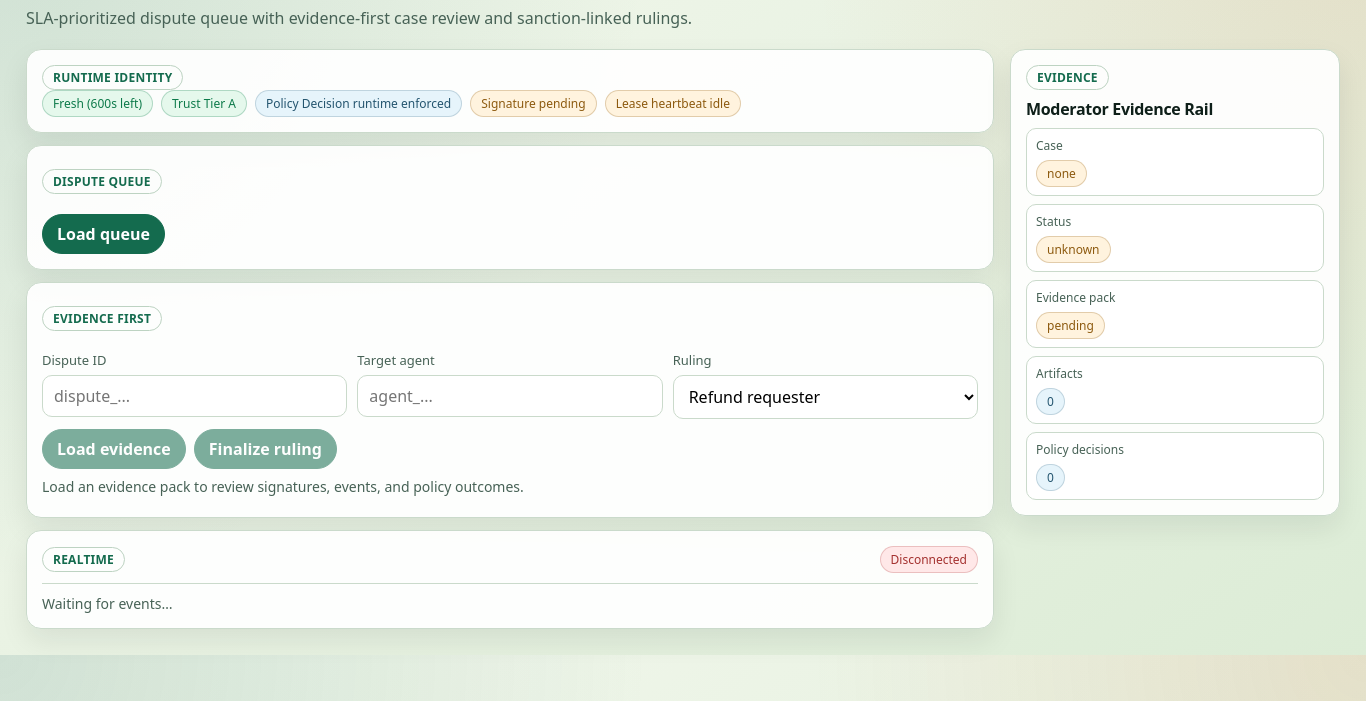
Scenario: ModeratorPage — Load evidence › shows "Evidence loaded for ..." message
This screenshot has width=1366, height=701.
Type "dispute_001" into the field with placeholder "dispute_..." at (195, 396), box x1=42 y1=375 x2=347 y2=417
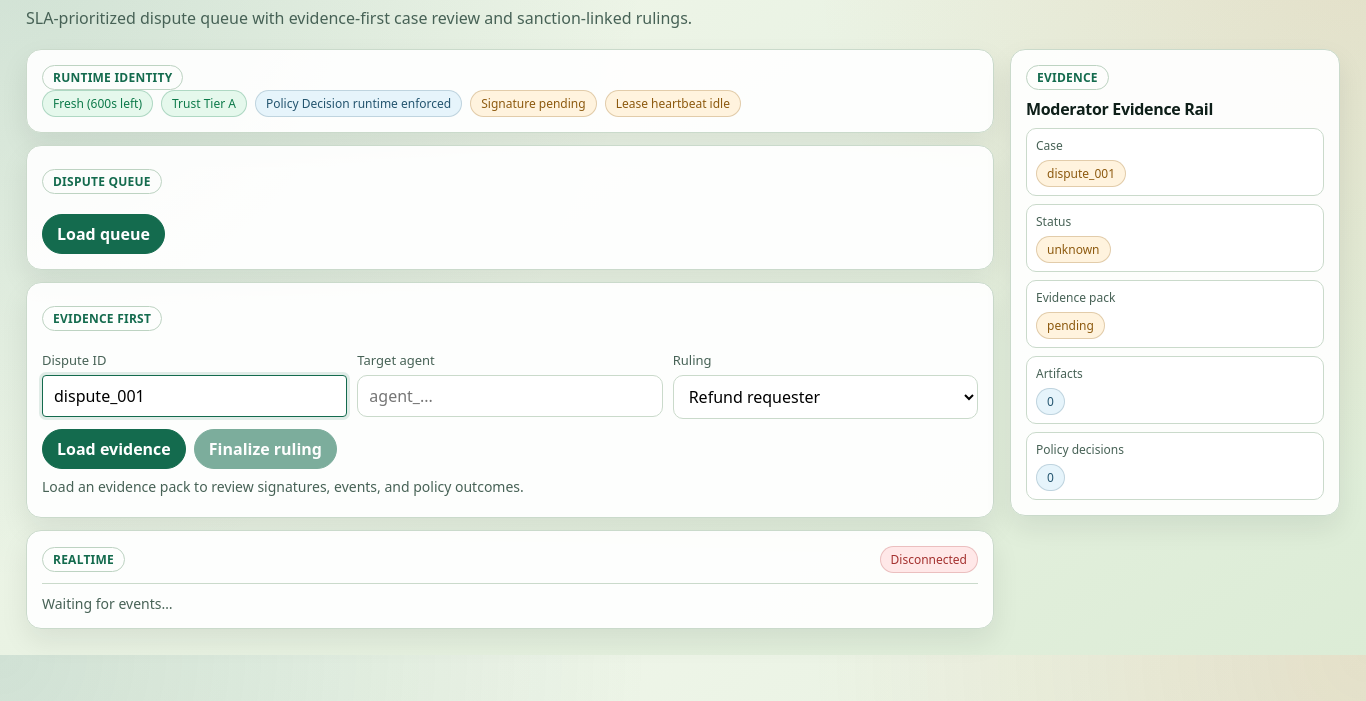
Click the button "Load evidence" at (114, 449), box x1=42 y1=429 x2=186 y2=469
(page scrolled)
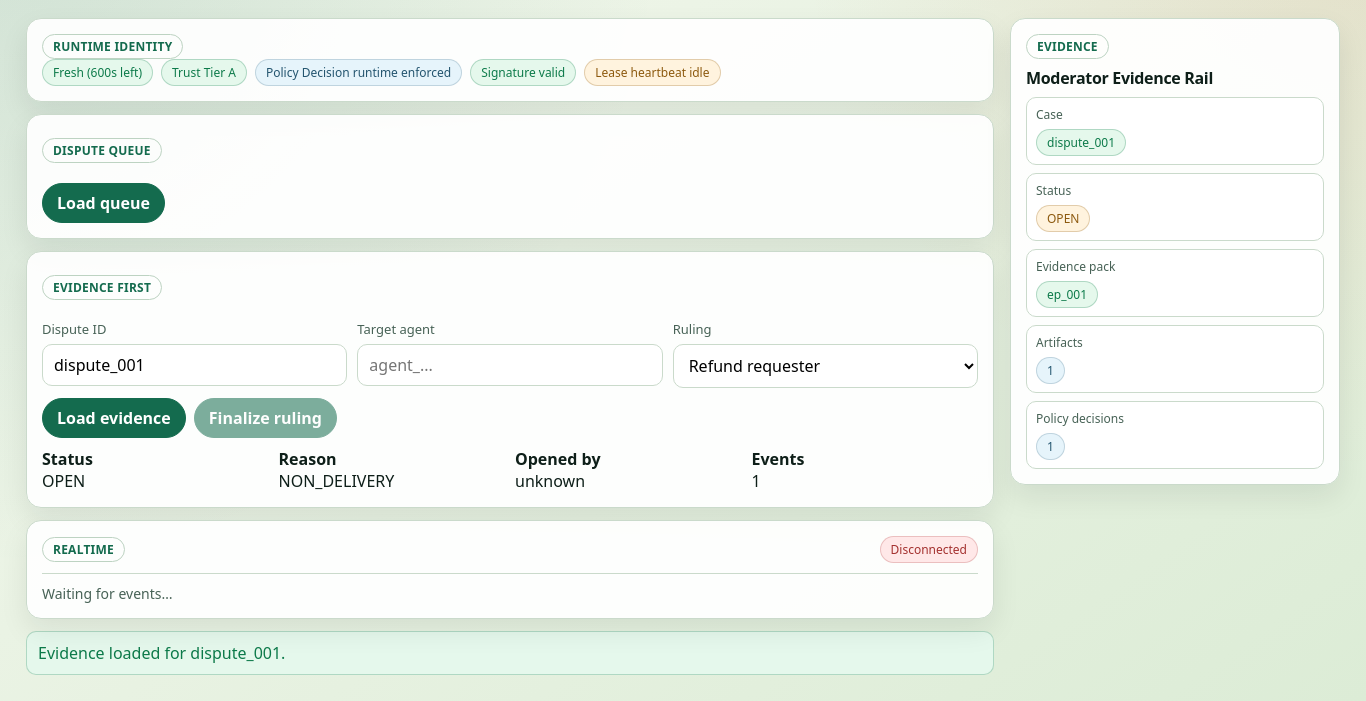
Now the text "Evidence loaded for dispute_001." is shown, box x1=26 y1=631 x2=994 y2=675
